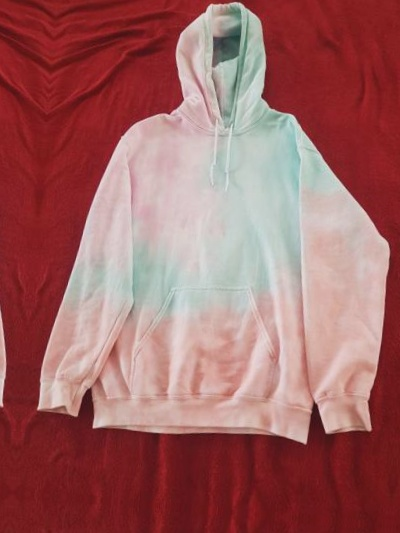Hoodie: (47, 0, 400, 464), (0, 0, 28, 429)
